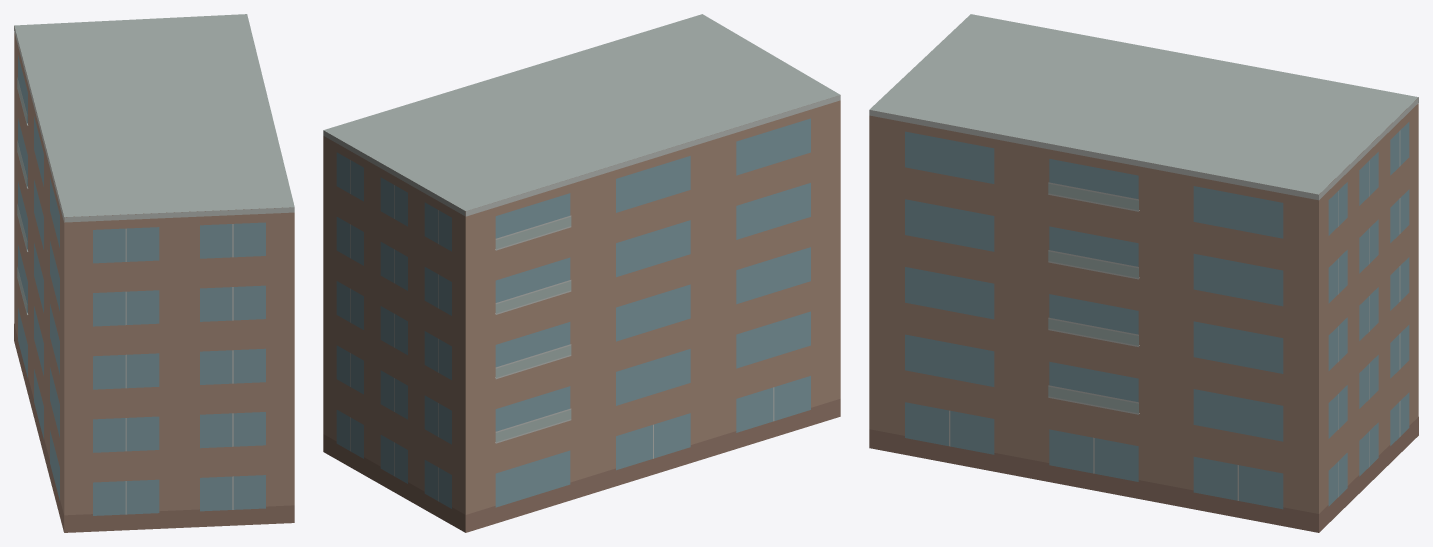
Rendered from survey-upis-32667287.glb.
3 renders of one model, left to right at view 1: azimuth 30°, elevation 25°; view 2: azimuth 150°, elevation 25°; view 3: azimuth 270°, elevation 25°, orthographic. The views are drawn at different scales.
Visible parts, largest first — view 1: survey-upis-32667287.tmp; view 2: survey-upis-32667287.tmp; view 3: survey-upis-32667287.tmp.
Boxes of the visible parts, x1=… form: survey-upis-32667287.tmp: x1=14, y1=14, x2=294, y2=532; survey-upis-32667287.tmp: x1=323, y1=14, x2=840, y2=532; survey-upis-32667287.tmp: x1=869, y1=14, x2=1418, y2=532.
Size of the model in its own units: 16.55 by 14.45 by 21.28.
